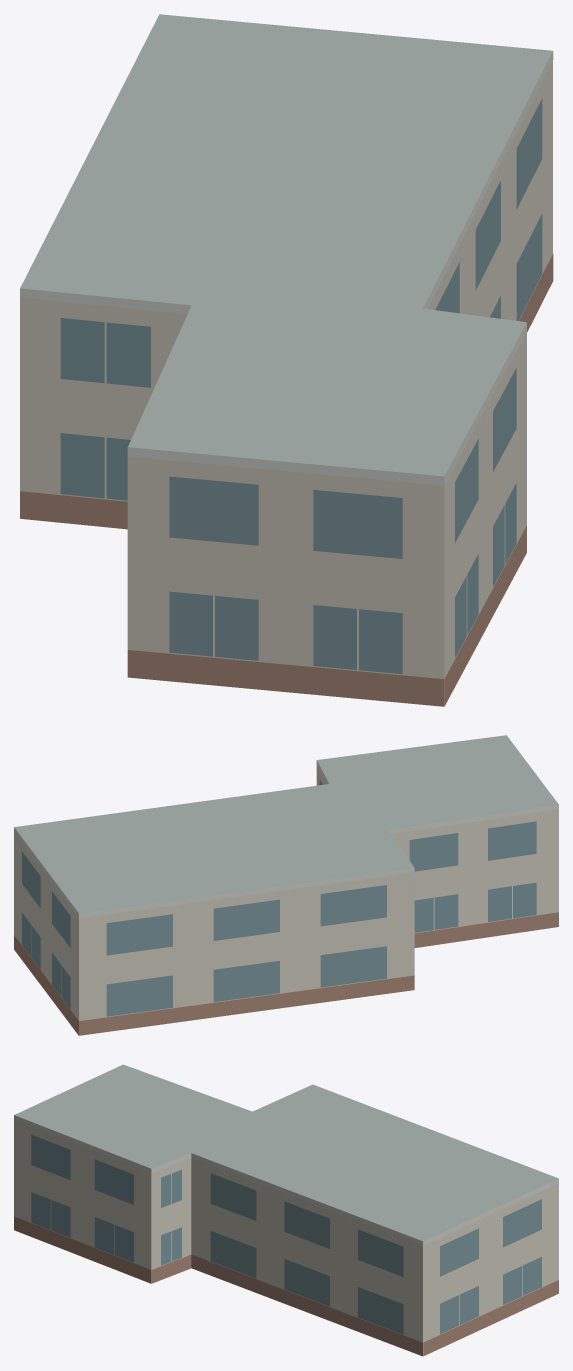
Rendered from survey-upis-32761273.glb.
3 renders of one model, top to bottom at view 1: azimuth 30°, elevation 25°; view 2: azimuth 150°, elevation 25°; view 3: azimuth 270°, elevation 25°, orthographic. The views are drawn at different scales.
Parts seen in each view (by area): view 1: survey-upis-32761273.tmp; view 2: survey-upis-32761273.tmp; view 3: survey-upis-32761273.tmp.
Boxes of the visible parts, x1=… form: survey-upis-32761273.tmp: x1=20, y1=14, x2=553, y2=706; survey-upis-32761273.tmp: x1=14, y1=735, x2=558, y2=1035; survey-upis-32761273.tmp: x1=14, y1=1064, x2=558, y2=1356.
Size of the model in its own units: 20.11 by 6.1 by 26.17.
